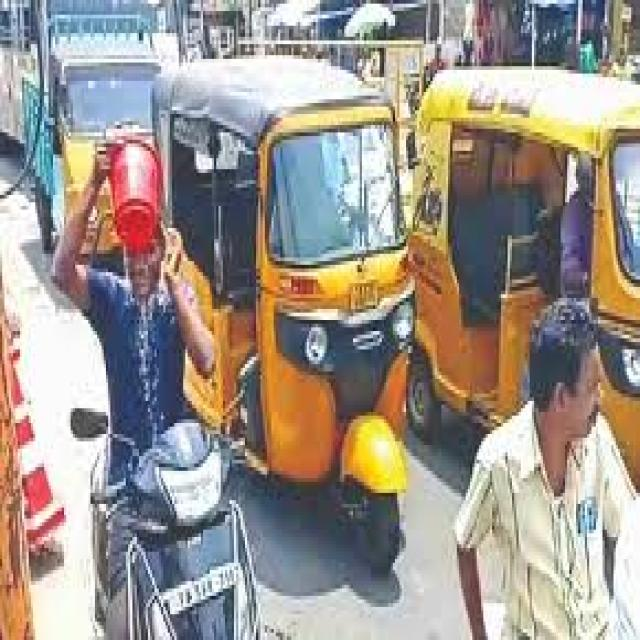motorcycle: (71, 408, 260, 640)
person: (455, 298, 638, 636), (53, 154, 212, 452), (561, 154, 591, 298)
three wheeler: (154, 59, 410, 566), (408, 66, 638, 489)
truck: (22, 4, 159, 254)
